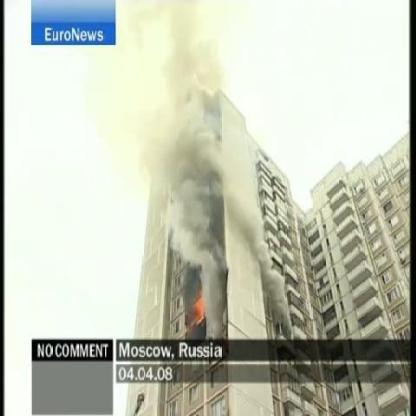fire: (191, 294, 205, 324)
